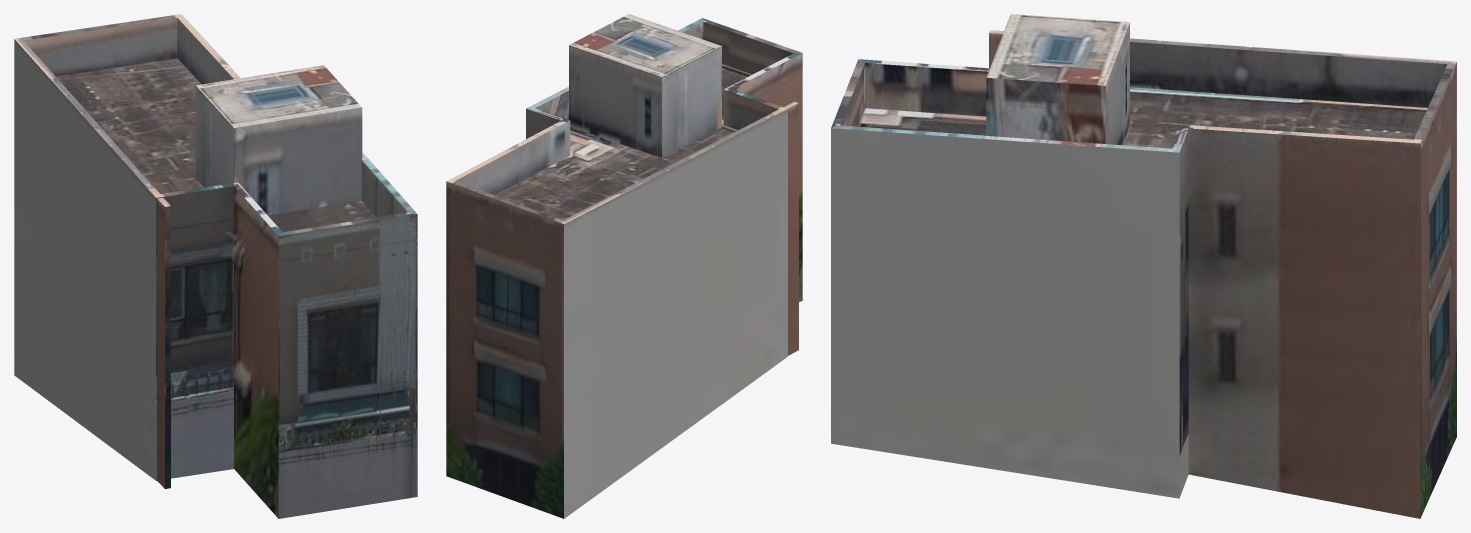
3 views of the same model, side by side, from view 1: azimuth 30°, elevation 25°; view 2: azimuth 150°, elevation 25°; view 3: azimuth 270°, elevation 25° (orthographic). The views are drawn at different scales.
Parts seen in each view (by area): view 1: B280034034301063A0; view 2: B280034034301063A0; view 3: B280034034301063A0.
Boxes of the visible parts, left/top/right/bottom form: B280034034301063A0: left=14, top=14, right=417, bottom=518; B280034034301063A0: left=446, top=14, right=802, bottom=518; B280034034301063A0: left=831, top=14, right=1456, bottom=518.
Bounding box in the file's own units: 6.85 × 11.24 × 14.7.
Materials: 1 (1 with a texture image).
